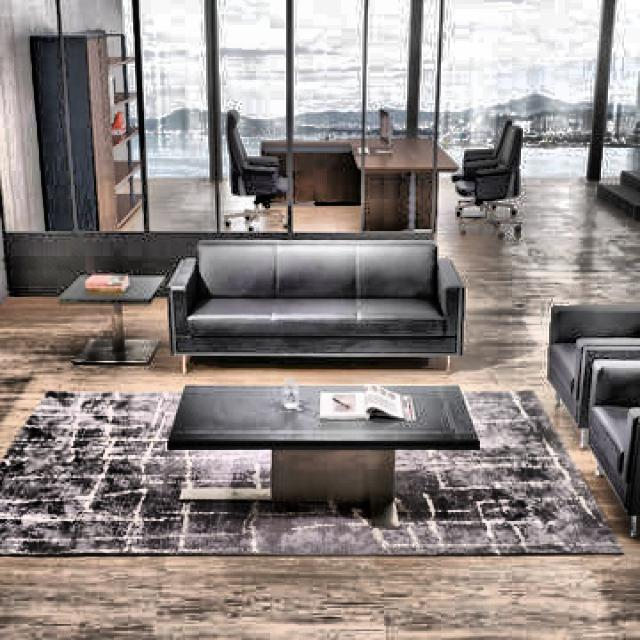sofa: (165, 236, 464, 374)
